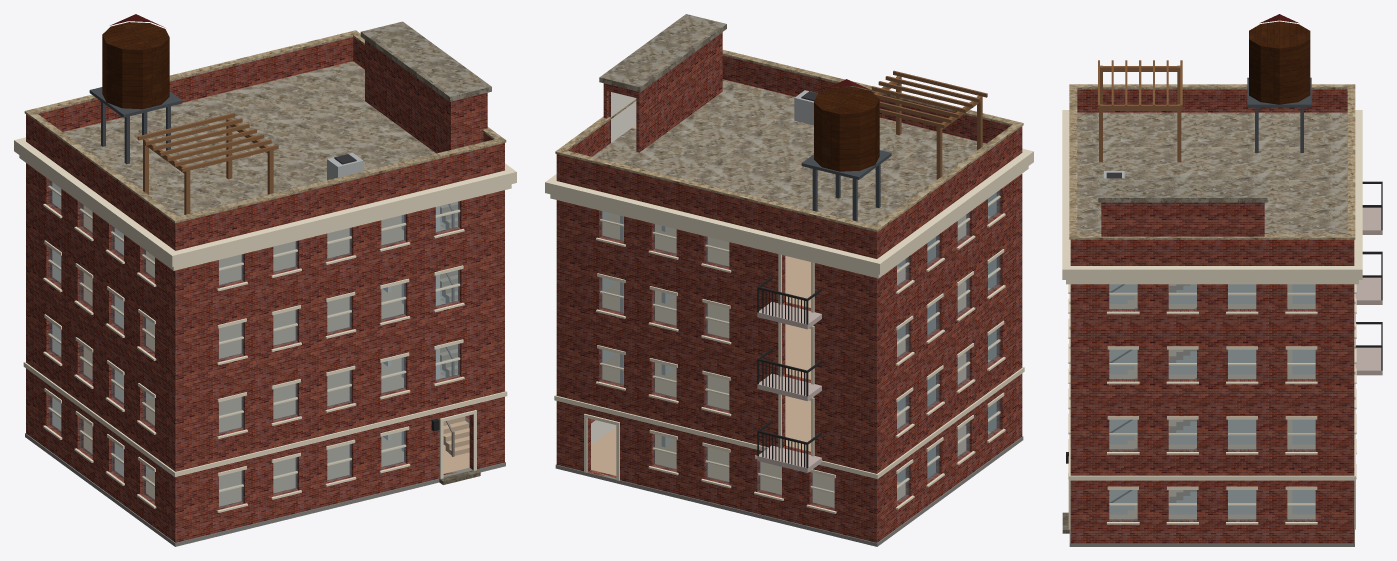
Rendered from ns-brick-walkup.towns-v1.lod0.glb.
The picture shows the model from 3 angles, left to right: view 1: azimuth 30°, elevation 25°; view 2: azimuth 150°, elevation 25°; view 3: azimuth 270°, elevation 25°; orthographic projection. The views are drawn at different scales.
Visible parts, largest first — view 1: ns-brick-walkup; view 2: ns-brick-walkup; view 3: ns-brick-walkup.
Boxes of the visible parts, x1,y1,x2,y2 form: ns-brick-walkup: [14, 14, 516, 546]; ns-brick-walkup: [545, 14, 1033, 546]; ns-brick-walkup: [1062, 14, 1382, 546].
Bounding box in the file's own units: 14.64 × 17.65 × 12.42.
Materials: 7 (3 with a texture image).
